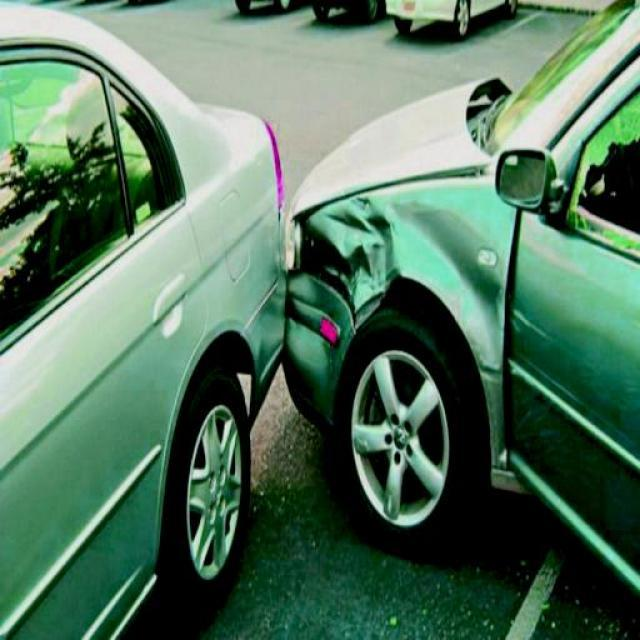Car-Damage: (288, 194, 414, 371), (391, 199, 503, 362)
